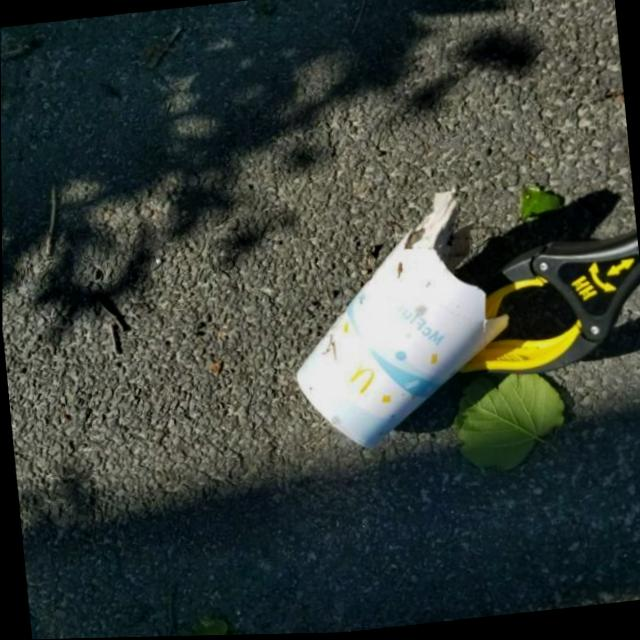Paper: (277, 184, 522, 461)
